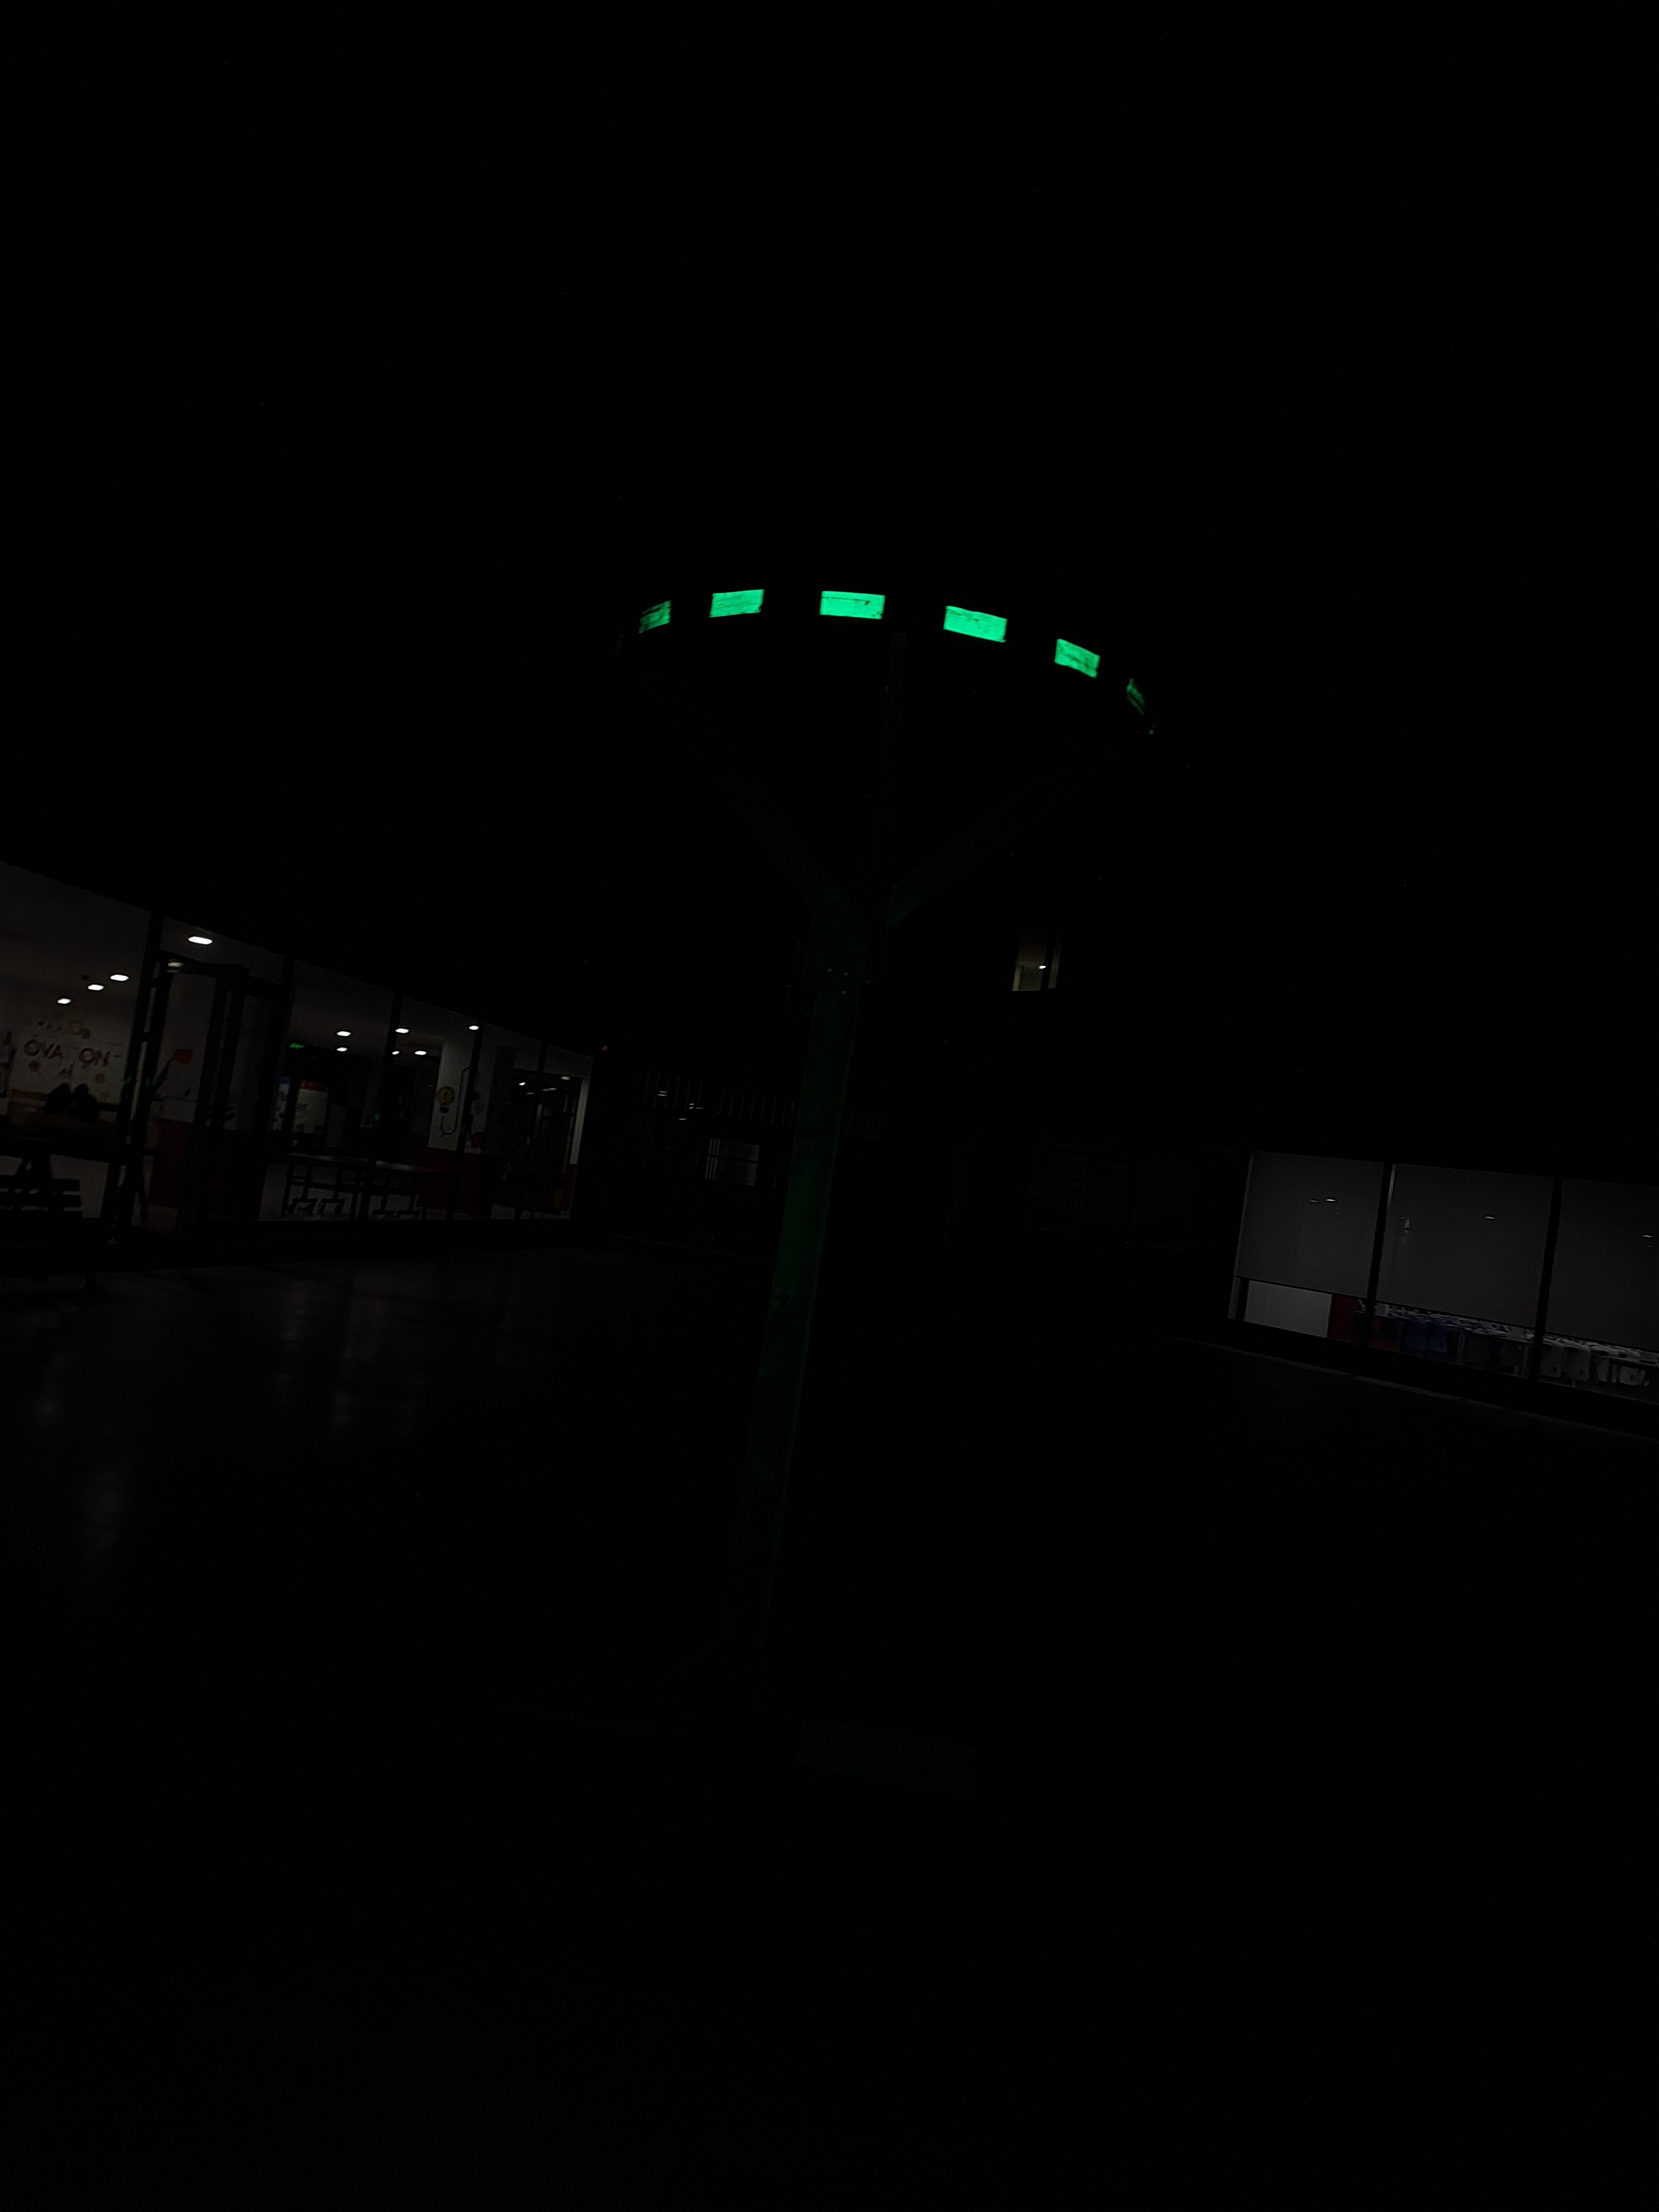hoop: (636, 563, 1107, 704)
